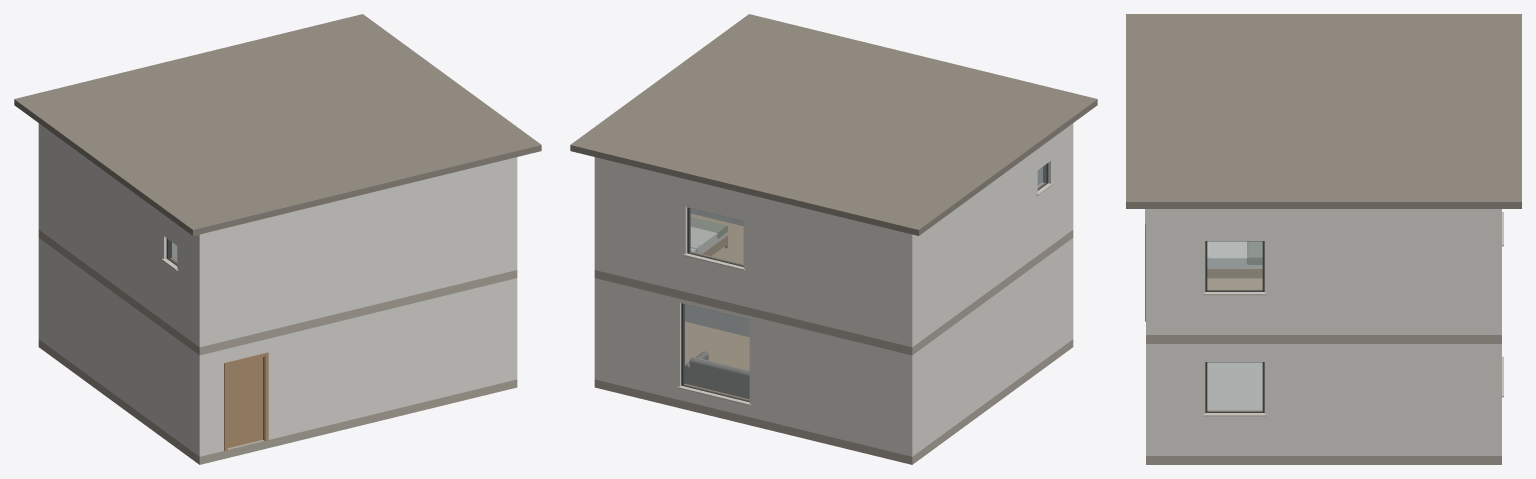
The model's file is two-storey.glb.
The picture shows the model from 3 angles, left to right: view 1: azimuth 30°, elevation 25°; view 2: azimuth 150°, elevation 25°; view 3: azimuth 270°, elevation 25°; orthographic projection. The views are drawn at different scales.
Parts seen in each view (by area): view 1: wall:shell (×2), roof:roof_1, slab:slab (×2), door:front, door:front:casing; view 2: wall:shell (×2), roof:roof_1, slab:slab (×2), window:w_living:glass, window:w_bed1:glass, floor:living, furniture:sofa_1, furniture:bed_1, wall:kitchen_w, floor:bed1; view 3: wall:shell (×2), roof:roof_1, slab:slab (×2), window:w_kitchen:glass, window:w_bed2:glass, floor:kitchen, furniture:bed_2, floor:bed2, window:w_kitchen:frame, window:w_bed2:frame.
Boxes of the visible parts, box(x1,y1,x2,y2) form: wall:shell (×2): box(38, 123, 517, 456); roof:roof_1: box(14, 14, 541, 235); slab:slab (×2): box(38, 230, 517, 464); door:front: box(227, 357, 262, 447); door:front:casing: box(224, 352, 268, 451); wall:shell (×2): box(594, 123, 1073, 456); roof:roof_1: box(570, 14, 1097, 235); slab:slab (×2): box(594, 230, 1073, 464); window:w_living:glass: box(683, 304, 749, 400); window:w_bed1:glass: box(689, 208, 743, 265); floor:living: box(685, 321, 749, 369); furniture:sofa_1: box(685, 351, 749, 398); furniture:bed_1: box(690, 217, 727, 255); wall:kitchen_w: box(685, 304, 749, 336); floor:bed1: box(690, 213, 743, 263); wall:shell (×2): box(1146, 209, 1501, 455); roof:roof_1: box(1126, 14, 1521, 208); slab:slab (×2): box(1146, 335, 1501, 464); window:w_kitchen:glass: box(1207, 362, 1262, 411); window:w_bed2:glass: box(1207, 241, 1262, 290); floor:kitchen: box(1207, 362, 1262, 410); furniture:bed_2: box(1207, 241, 1262, 278); floor:bed2: box(1207, 278, 1262, 288); window:w_kitchen:frame: box(1205, 362, 1264, 412); window:w_bed2:frame: box(1205, 241, 1264, 291).
Size of the model in its own units: 9 by 6.05 by 8.
